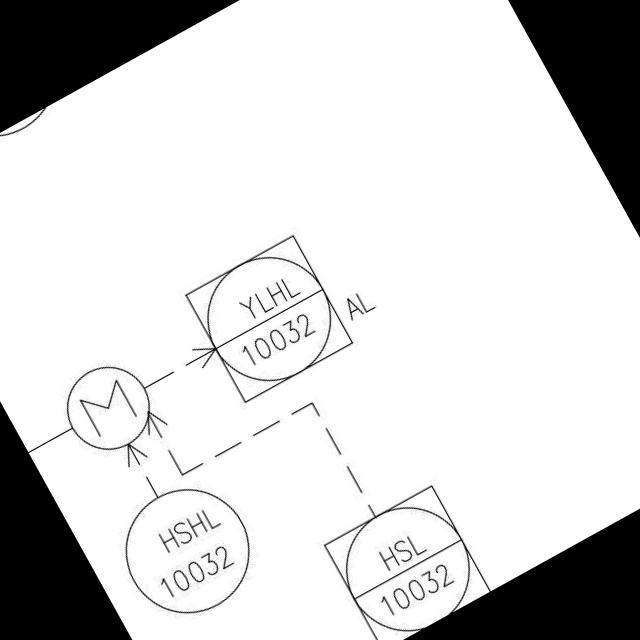M: (47, 348, 166, 467)
